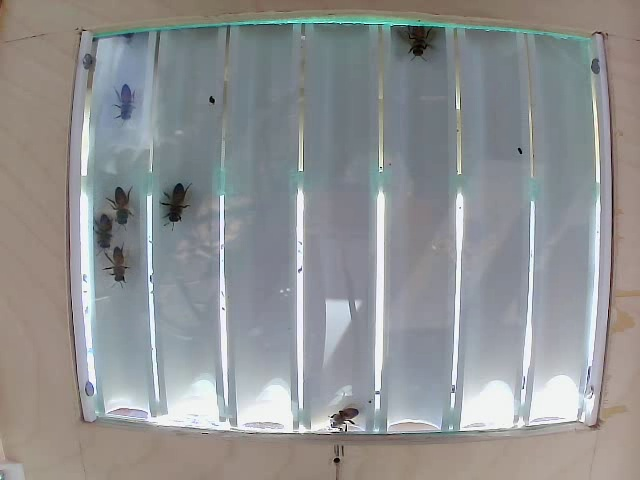bee: (154, 174, 197, 228), (103, 178, 140, 226), (87, 211, 117, 254), (109, 89, 140, 125), (102, 241, 130, 279)
